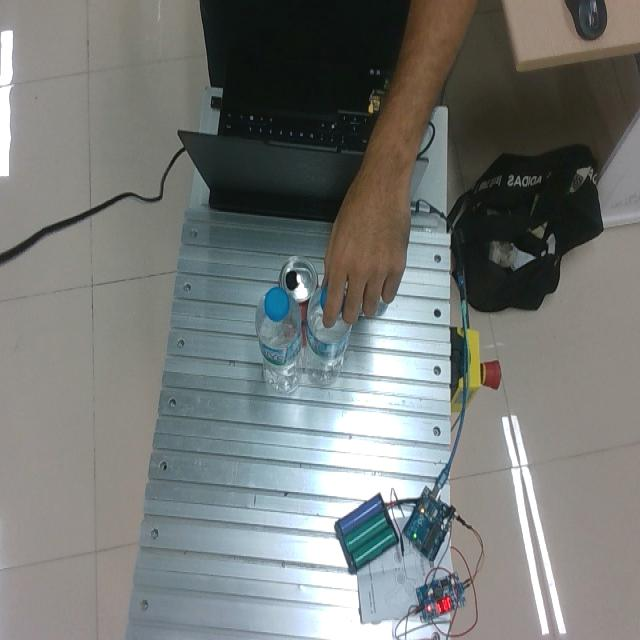coca: (279, 256, 318, 345)
lavie: (303, 281, 353, 387), (256, 290, 303, 394)
